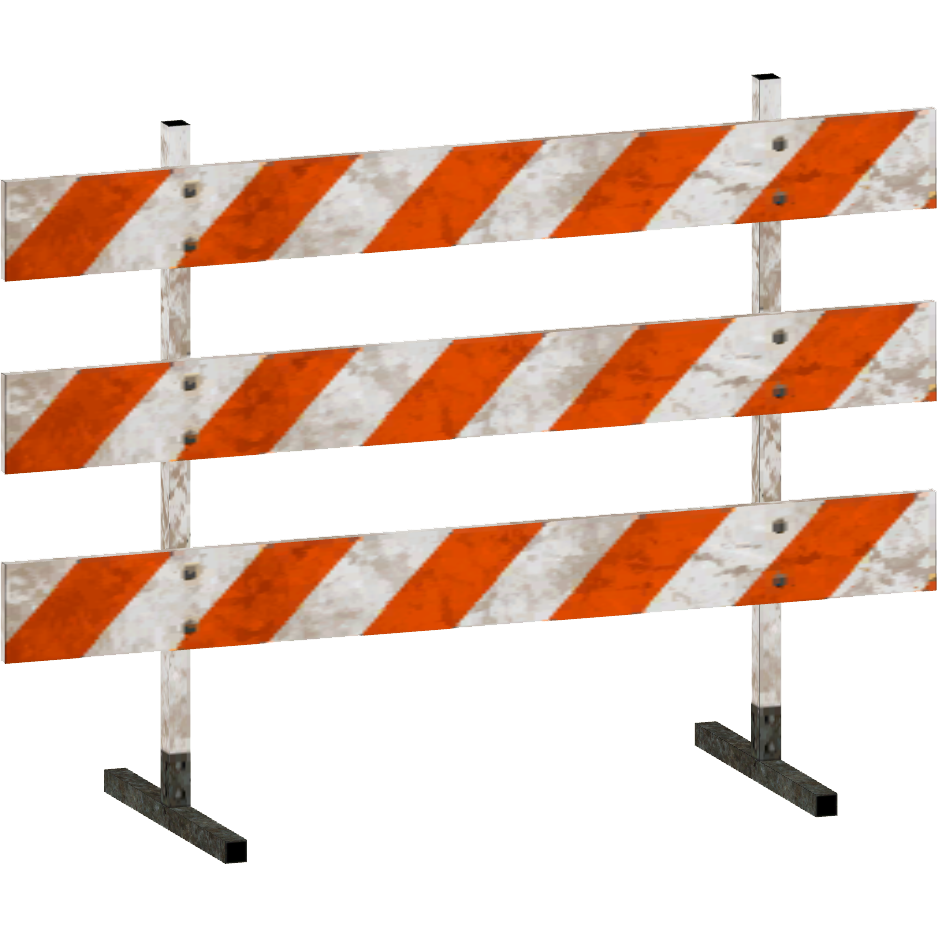Barrier: (4, 63, 937, 864)
